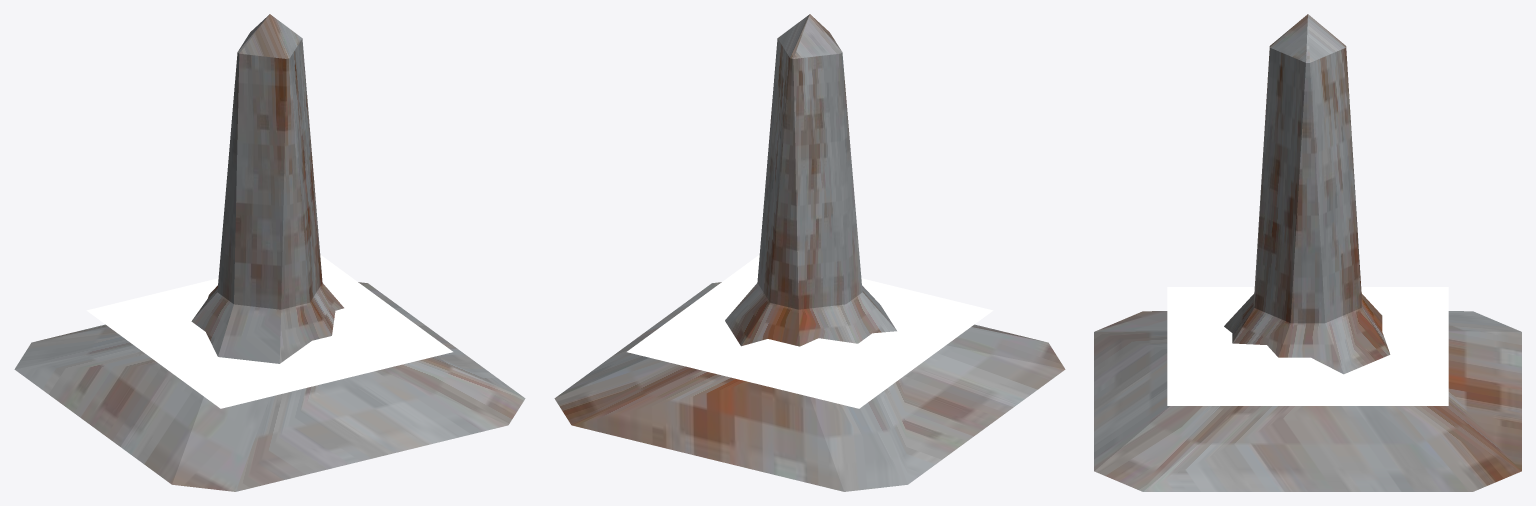
The model's file is lightsBetter.gltf.
The picture shows the model from 3 angles, left to right: view 1: azimuth 30°, elevation 25°; view 2: azimuth 150°, elevation 25°; view 3: azimuth 270°, elevation 25°; orthographic projection. The views are drawn at different scales.
Visible parts, largest first — view 1: Cube.001, Cube; view 2: Cube.001, Cube; view 3: Cube.001, Cube.
Part boxes in pixels (x1=…): Cube.001: x1=14, y1=14, x2=525, y2=491; Cube: x1=86, y1=255, x2=452, y2=408; Cube.001: x1=554, y1=14, x2=1065, y2=491; Cube: x1=627, y1=255, x2=993, y2=408; Cube.001: x1=1094, y1=14, x2=1521, y2=491; Cube: x1=1167, y1=287, x2=1448, y2=405.
Size of the model in its own units: 2 by 2 by 2.
2 materials, 1 textured.
